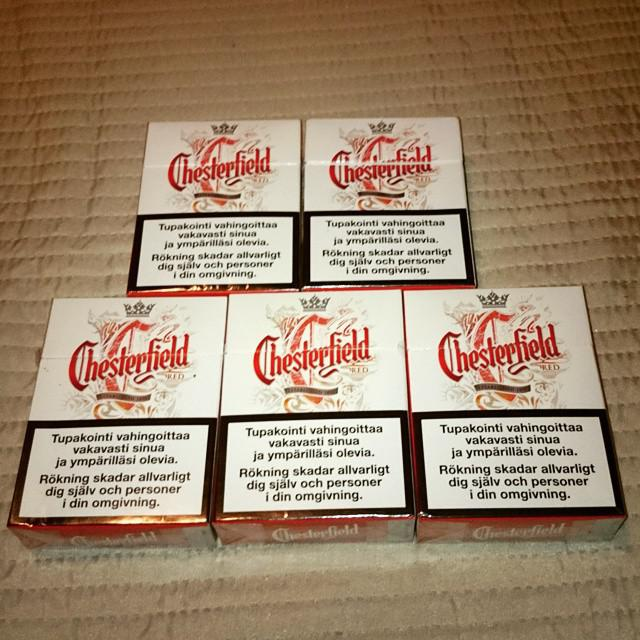chesterfield_red: (219, 292, 408, 527), (406, 290, 585, 510), (46, 301, 214, 518), (308, 117, 469, 285), (147, 122, 297, 283)
